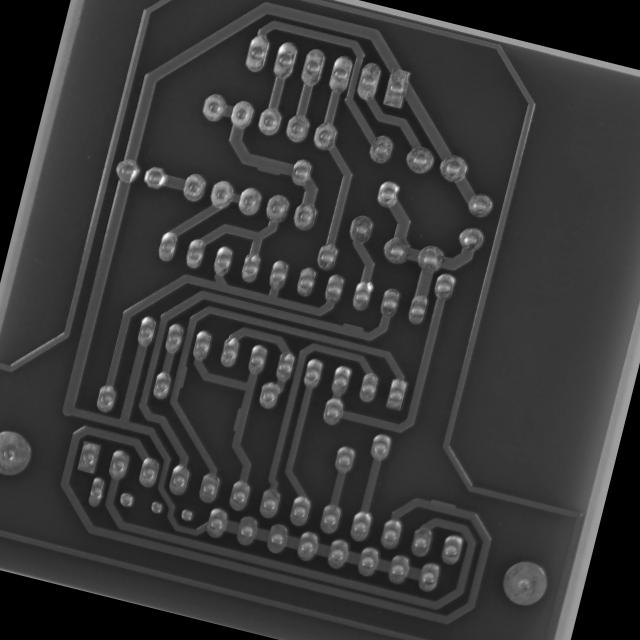spur: (249, 148, 288, 180), (423, 492, 462, 518), (334, 317, 369, 342), (227, 402, 252, 436), (168, 361, 194, 392)
